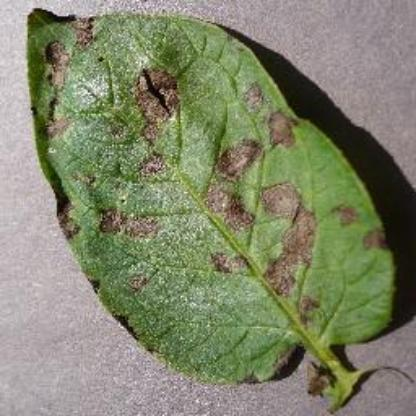Early-Blight: (19, 5, 416, 412)
